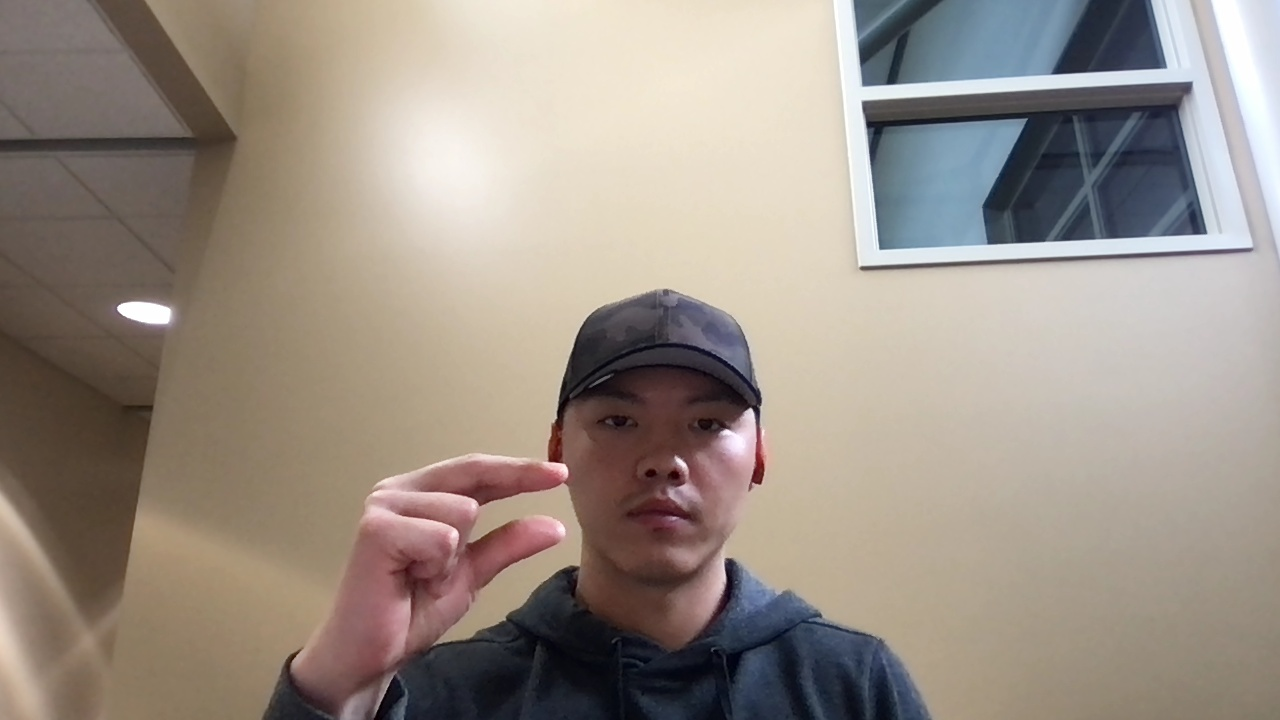No: (312, 449, 577, 685)
